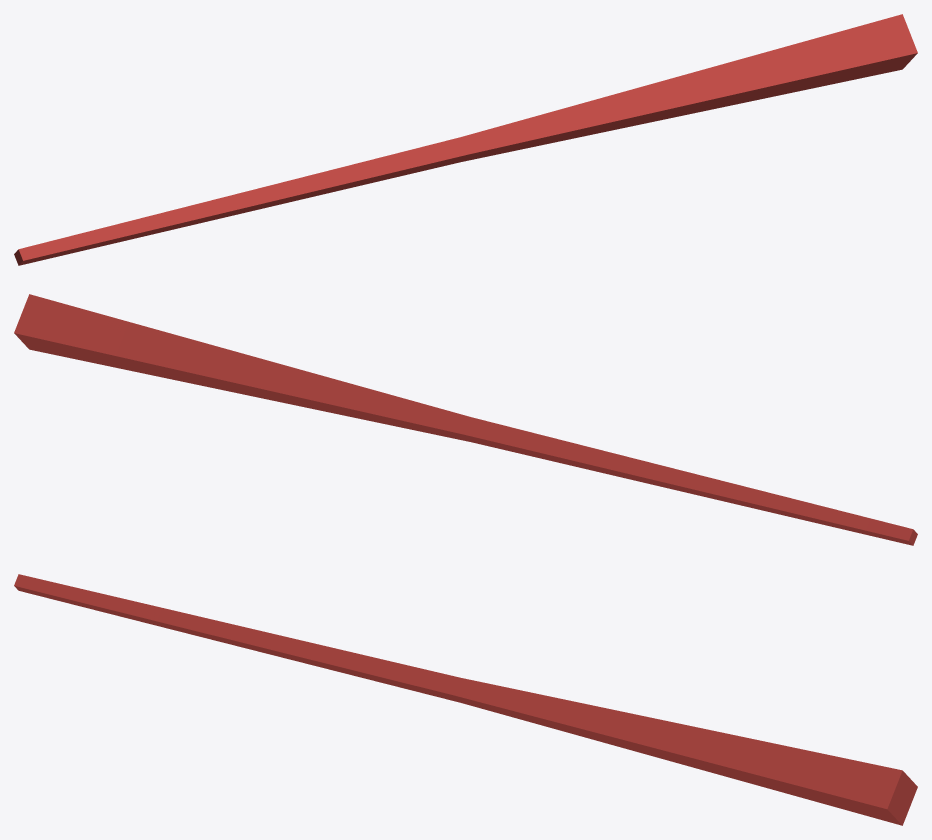
File: trumpet_lod2.glb
3 views of the same model, one above another, from view 1: azimuth 30°, elevation 25°; view 2: azimuth 150°, elevation 25°; view 3: azimuth 330°, elevation 25° (orthographic).
Parts seen in each view (by area): view 1: trumpet_lod2; view 2: trumpet_lod2; view 3: trumpet_lod2.
Part boxes in pixels (left/top/right/bottom): trumpet_lod2: left=14, top=14, right=917, bottom=265; trumpet_lod2: left=14, top=294, right=917, bottom=545; trumpet_lod2: left=14, top=574, right=917, bottom=825.
Bounding box in the file's own units: 1 × 0.06 × 0.06.
